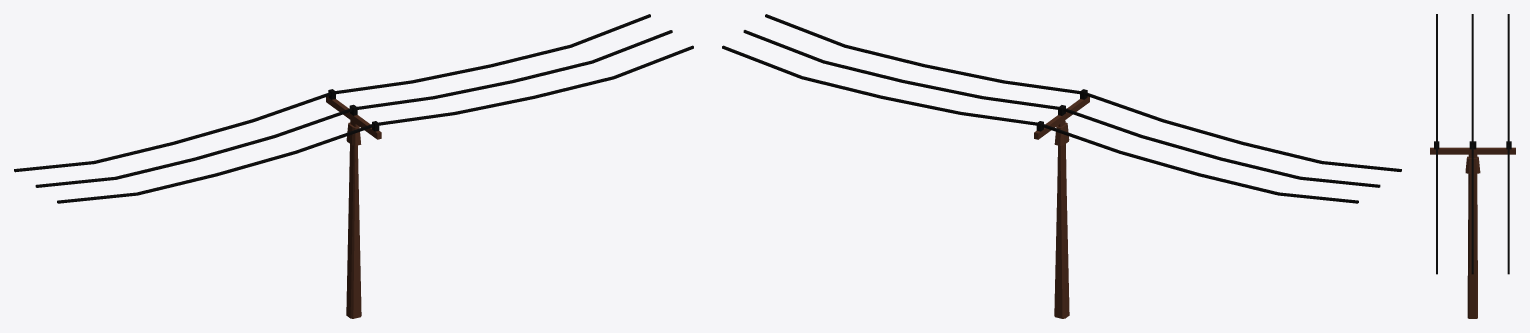
File: slup telefoniczny z kablami.fbx
3 views of the same model, side by side, from view 1: azimuth 30°, elevation 25°; view 2: azimuth 150°, elevation 25°; view 3: azimuth 270°, elevation 25° (orthographic). The views are drawn at different scales.
Parts seen in each view (by area): view 1: slup telefoniczny z kablami; view 2: slup telefoniczny z kablami; view 3: slup telefoniczny z kablami.
Boxes of the visible parts, bbox=[...] form: slup telefoniczny z kablami: bbox=[14, 14, 693, 318]; slup telefoniczny z kablami: bbox=[722, 14, 1401, 318]; slup telefoniczny z kablami: bbox=[1430, 14, 1515, 318].
Bounding box in the file's own units: 1232 × 387 × 173.
